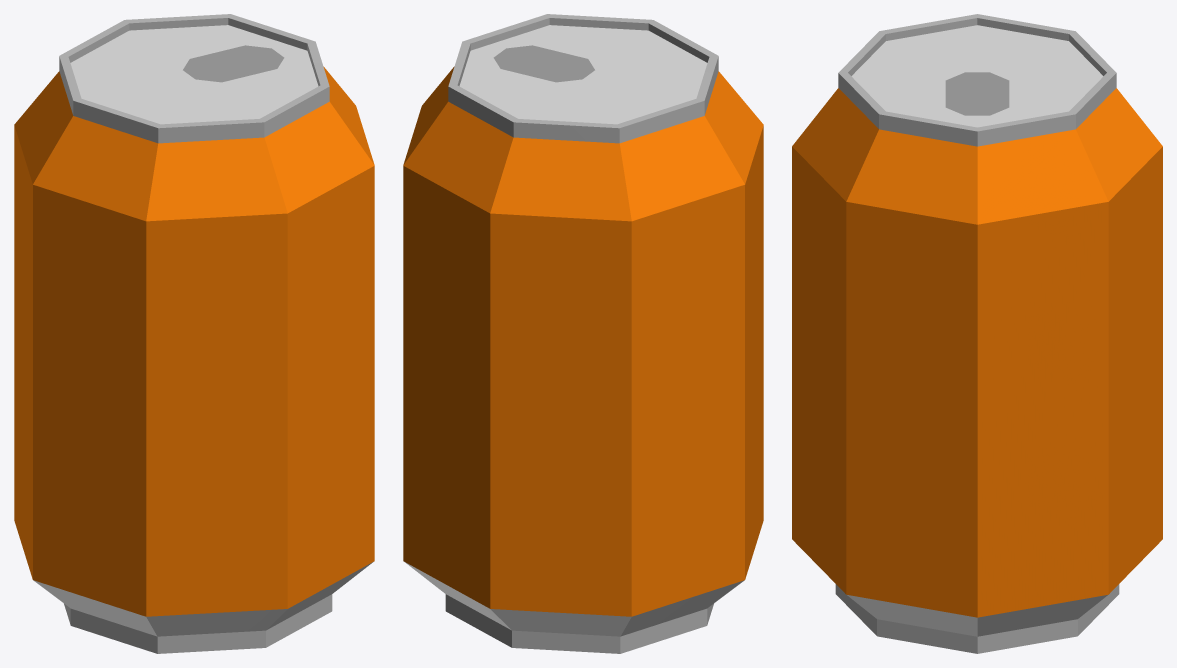
File: drink_004.glb
3 views of the same model, side by side, from view 1: azimuth 30°, elevation 25°; view 2: azimuth 150°, elevation 25°; view 3: azimuth 270°, elevation 25° (orthographic).
Parts seen in each view (by area): view 1: drink_004; view 2: drink_004; view 3: drink_004.
Boxes of the visible parts, box(x1,y1,x2,y2) form: drink_004: box(14, 14, 374, 653); drink_004: box(403, 14, 763, 653); drink_004: box(792, 14, 1162, 653).
Bounding box in the file's own units: 0.0752 × 0.1165 × 0.0752.
1 material, 1 textured.
